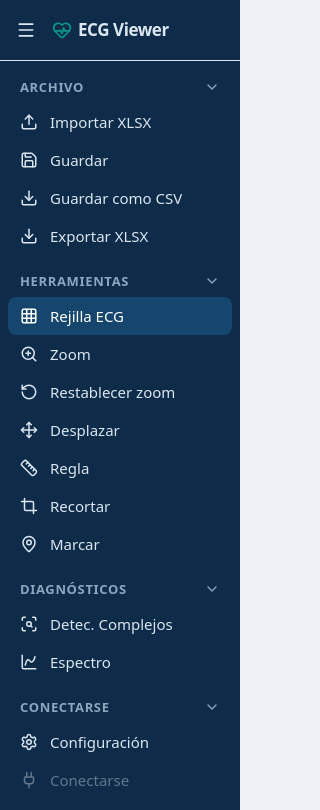
Scenario: Sidebar — colapso (US2/US3) › colapsar la sección 'Diagnósticos' oculta sus ítems
Expected: the text "Espectro" is shown, [50,651,111,673]
Step 1. Click the button "Diagnósticos" → point(120, 583), box [8,563,232,603]
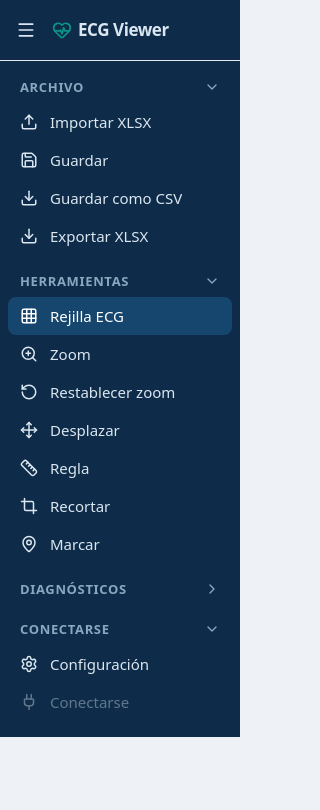
Expected: the button "Diagnósticos" is collapsed, [8,563,232,603]
Expected: the button "Espectro" is gone
